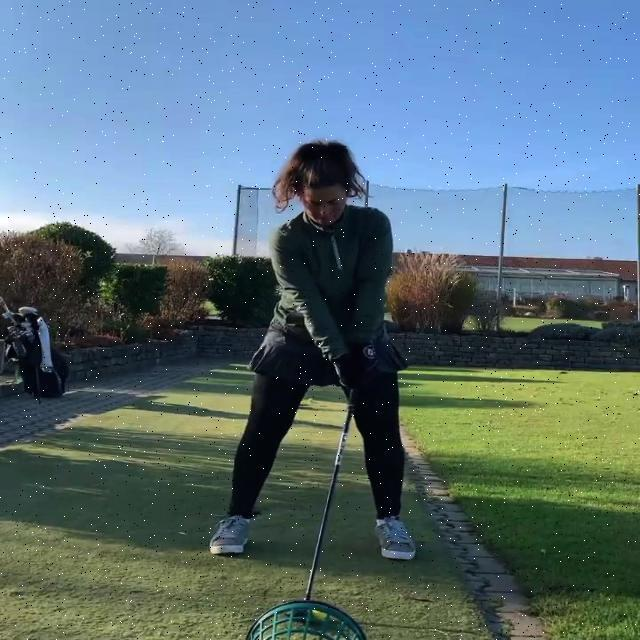golf ball: (313, 610, 326, 619)
golf club-handle: (284, 390, 360, 618)
golf club-head: (284, 600, 308, 618)
